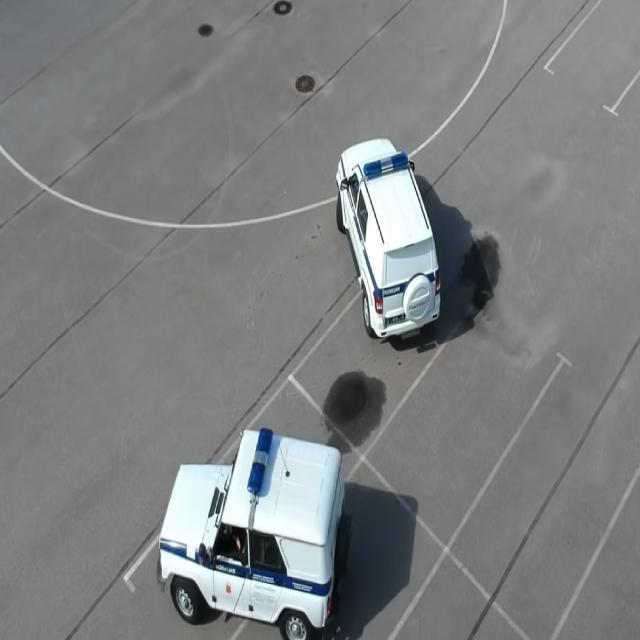police car: (155, 419, 347, 640), (334, 131, 445, 354)
